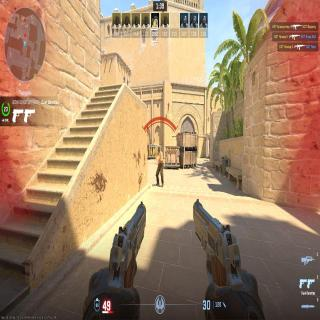T-Body: (155, 146, 165, 188)
T-Head: (157, 144, 163, 154)
